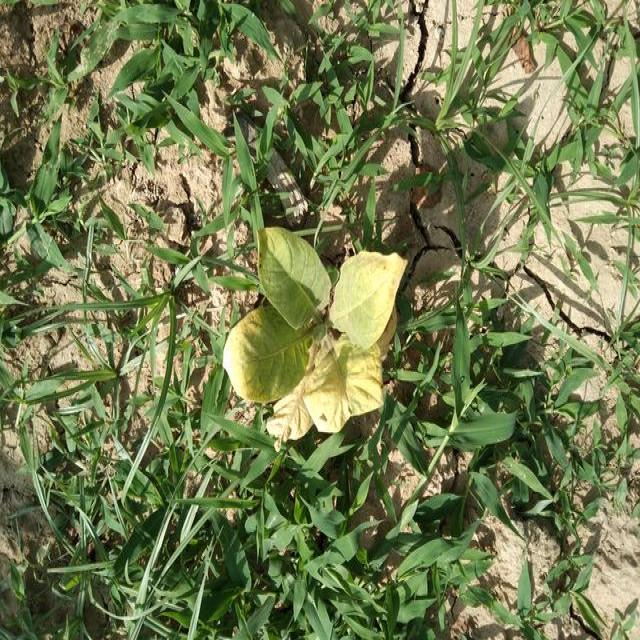crop: (222, 216, 409, 452)
